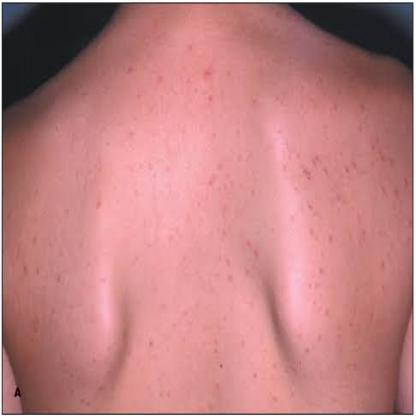Chicken Skin: (302, 105, 363, 310), (22, 174, 71, 370), (188, 69, 235, 264), (369, 136, 407, 310), (118, 55, 152, 219)
